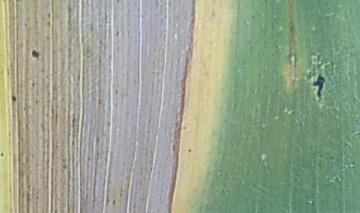tarspot: (310, 73, 328, 104), (29, 49, 43, 61), (8, 92, 19, 103), (187, 146, 195, 154), (1, 150, 6, 159)
